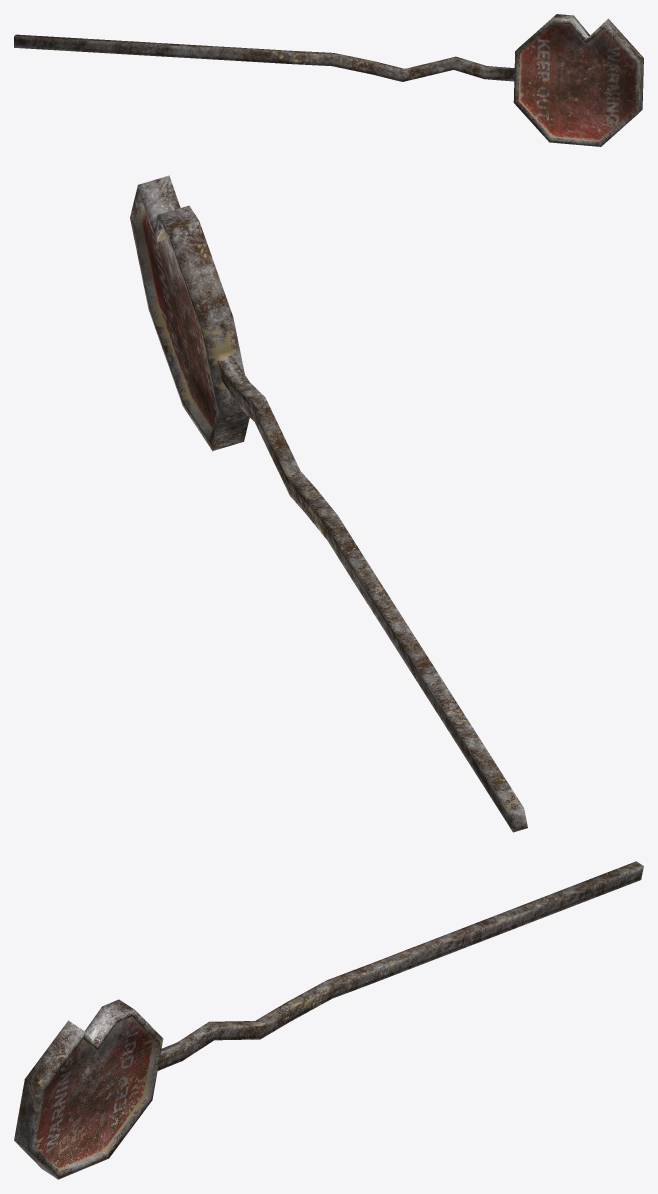
File: Anim_idle_senyal_objetos.0027.obj
3 renders of one model, top to bottom at view 1: azimuth 30°, elevation 25°; view 2: azimuth 150°, elevation 25°; view 3: azimuth 270°, elevation 25°, orthographic. The views are drawn at different scales.
Bounding box in the file's own units: 9.29 × 2.53 × 8.89.
